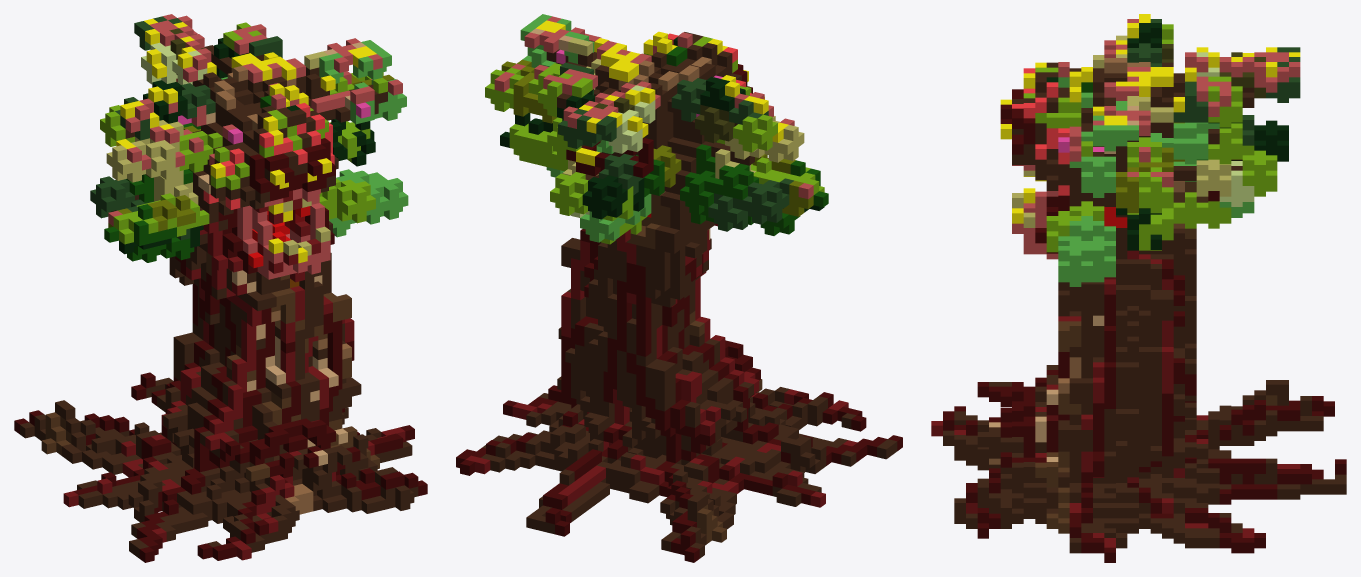
File: Anne_Catalina_Galvis_Carvajal_fase_4.obj
3 views of the same model, side by side, from view 1: azimuth 30°, elevation 25°; view 2: azimuth 150°, elevation 25°; view 3: azimuth 270°, elevation 25° (orthographic). The views are drawn at different scales.
Visible parts, largest first — view 1: Anne_Catalina_Galvis_Carvajal_fase_4; view 2: Anne_Catalina_Galvis_Carvajal_fase_4; view 3: Anne_Catalina_Galvis_Carvajal_fase_4.
Part boxes in pixels (<box>): Anne_Catalina_Galvis_Carvajal_fase_4: <box>14,14,427,562</box>; Anne_Catalina_Galvis_Carvajal_fase_4: <box>456,14,902,562</box>; Anne_Catalina_Galvis_Carvajal_fase_4: <box>931,14,1346,562</box>.
Size of the model in its own units: 35 by 40 by 36.
1 material, 1 textured.
